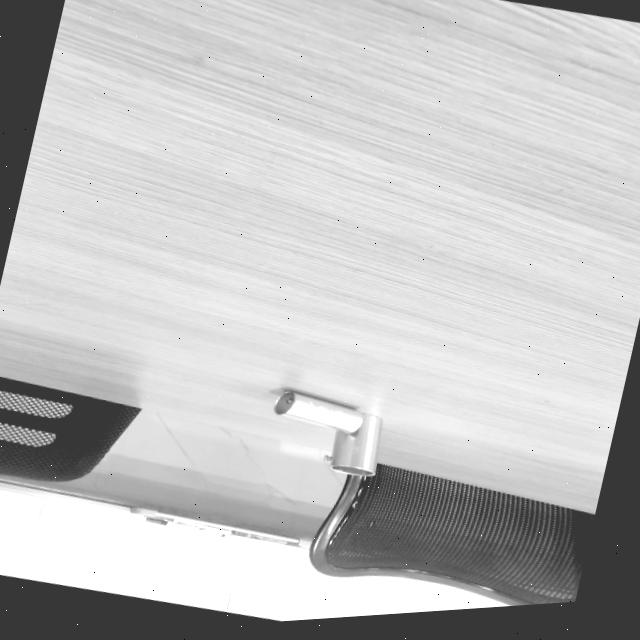Co_Lon: (320, 408, 382, 478)
Co_Nho: (273, 387, 365, 437)
